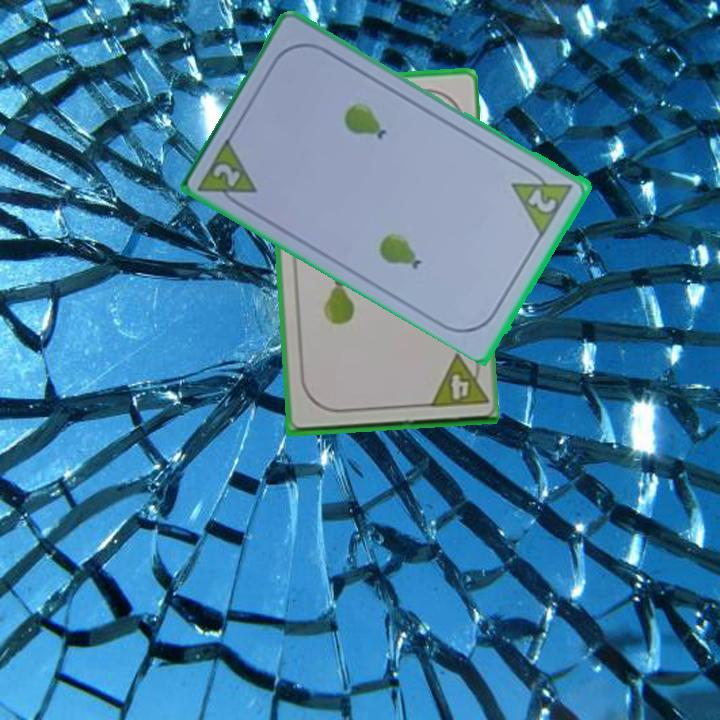2p: (195, 132, 262, 214), (508, 161, 577, 237)
4p: (424, 350, 489, 410)
